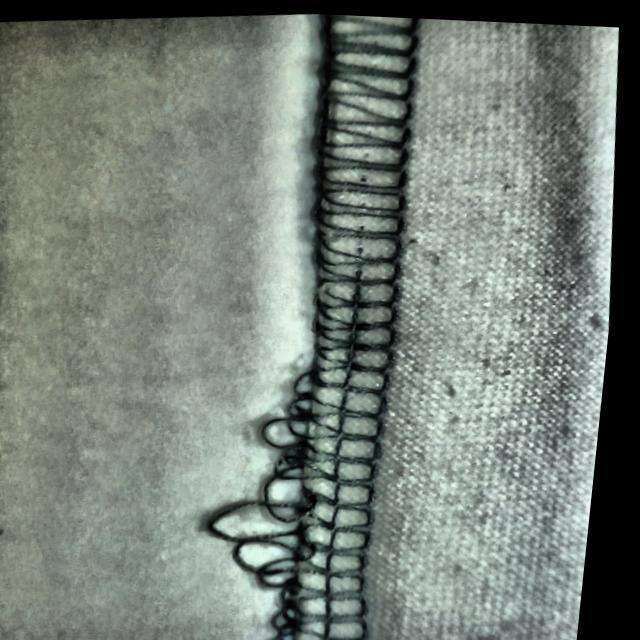Stitch: (197, 357, 417, 640)
